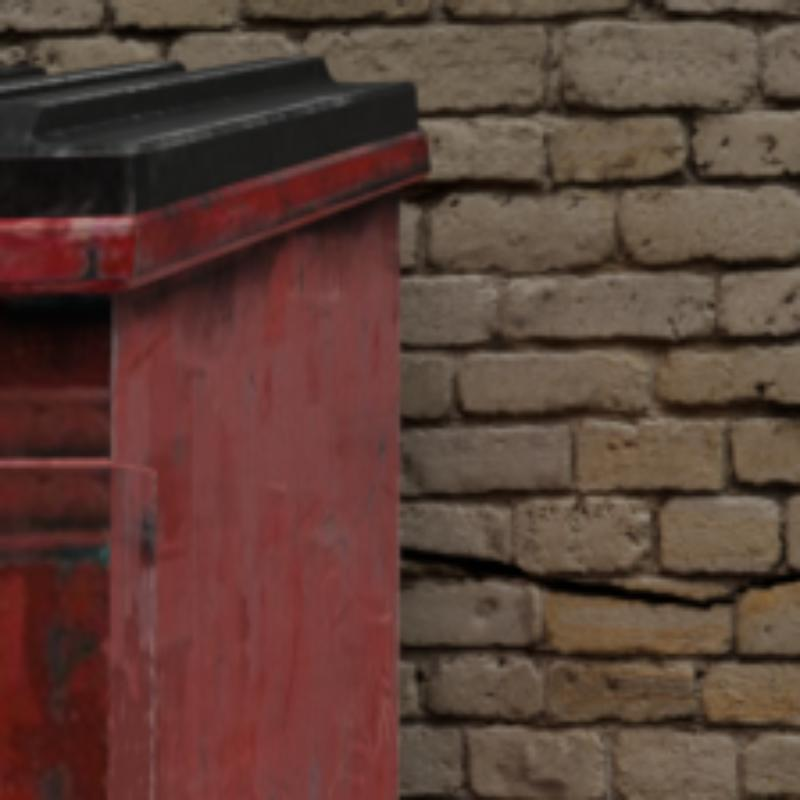pothole: (400, 546, 796, 607)
